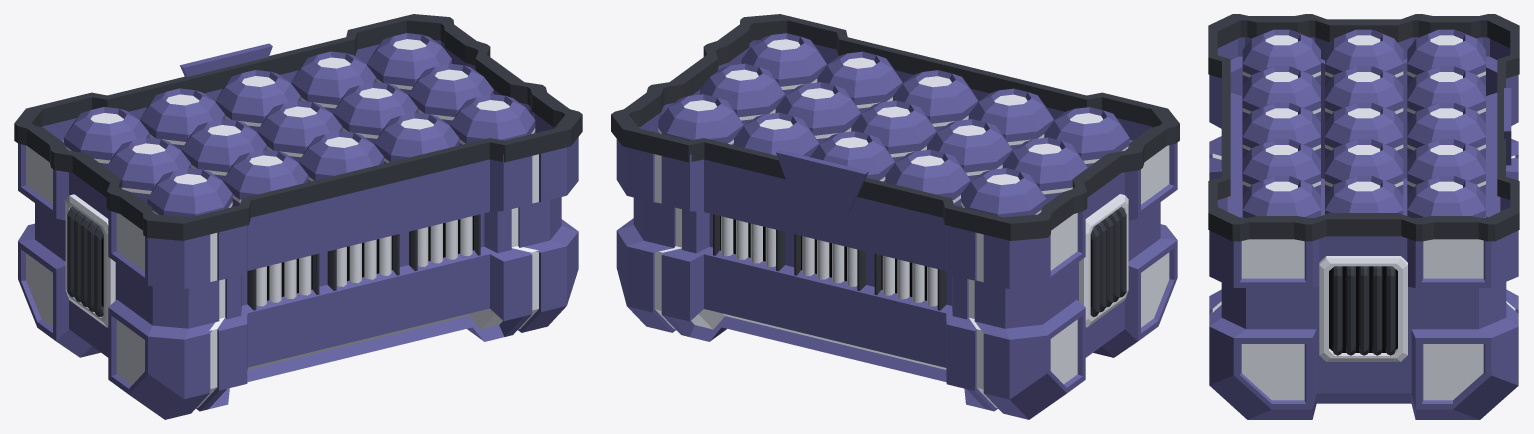
The model's file is Ammo_Pickup_2.fbx.
3 renders of one model, left to right at view 1: azimuth 30°, elevation 25°; view 2: azimuth 150°, elevation 25°; view 3: azimuth 270°, elevation 25°, orthographic.
Parts seen in each view (by area): view 1: Props_ContainerFull; view 2: Props_ContainerFull; view 3: Props_ContainerFull.
Part boxes in pixels (x1,y1,x2,y2): Props_ContainerFull: [14, 14, 582, 419]; Props_ContainerFull: [611, 14, 1179, 419]; Props_ContainerFull: [1208, 14, 1519, 419].
Bounding box in the file's own units: 12.02 × 5.82 × 7.52.
